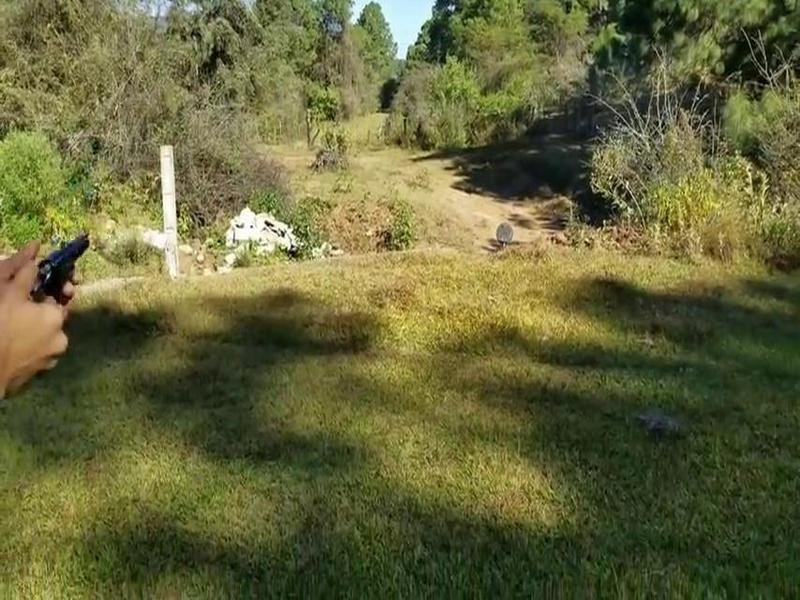Revolver: (16, 230, 101, 323)
